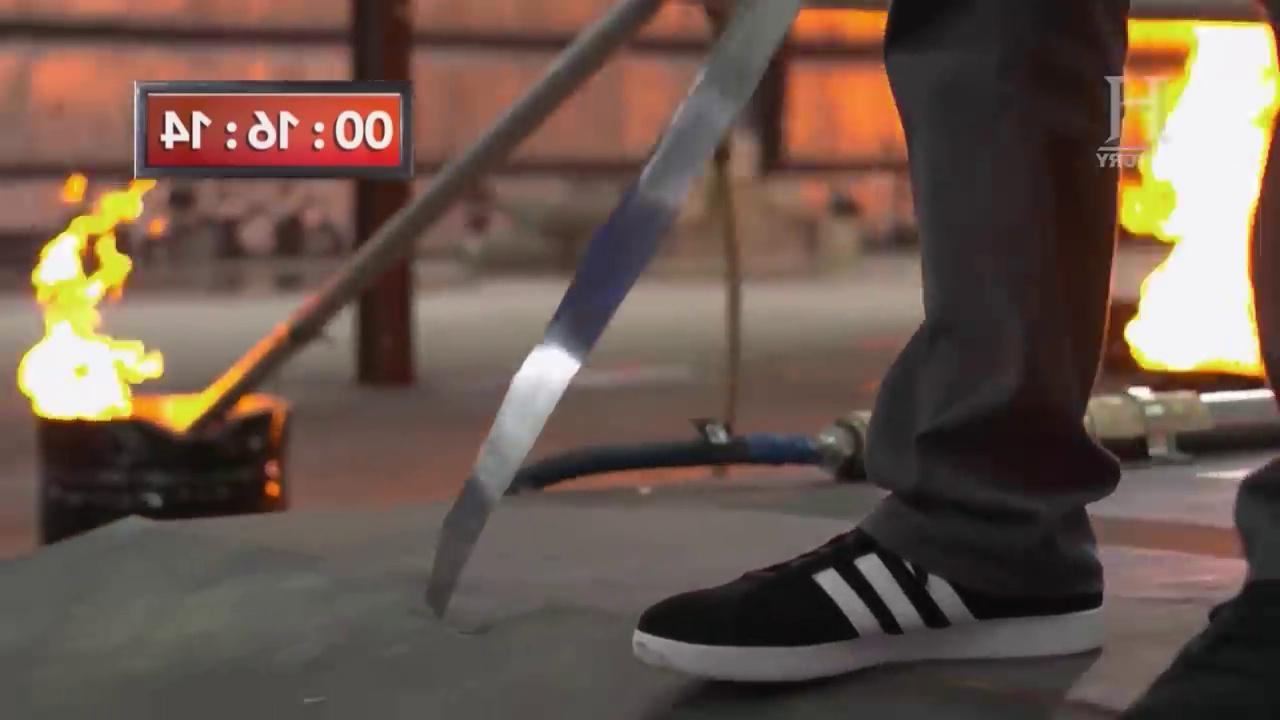Fire: (1116, 22, 1275, 384), (17, 181, 164, 430)
